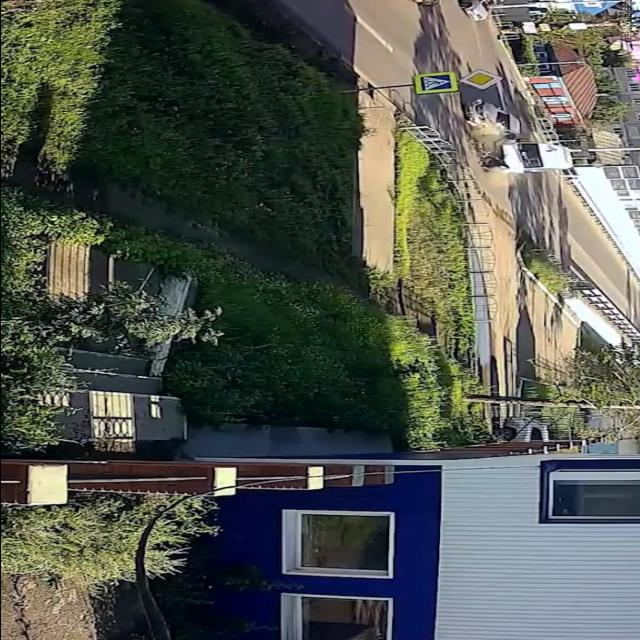accident: (458, 90, 578, 186)
